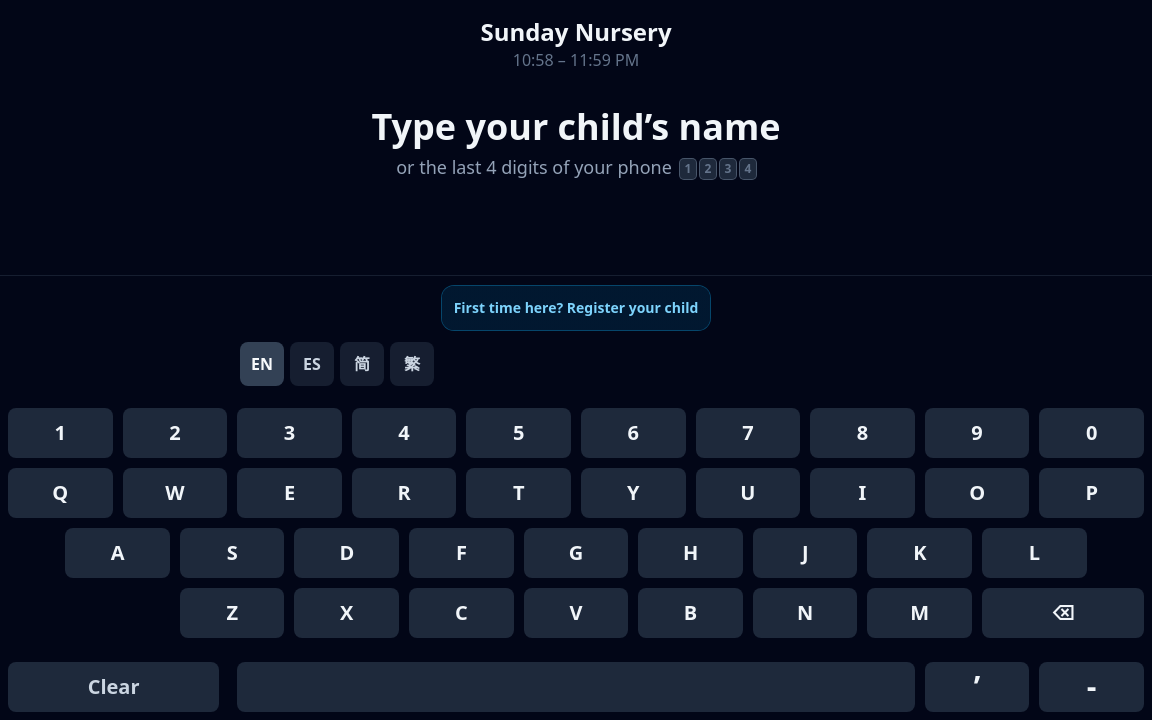
the staff reprint flow › puts a statement where the reprint door goes when nothing would print
Press the mouse on the button "Clear": (114, 687) [8,662,219,712]
Wait 2200 ms
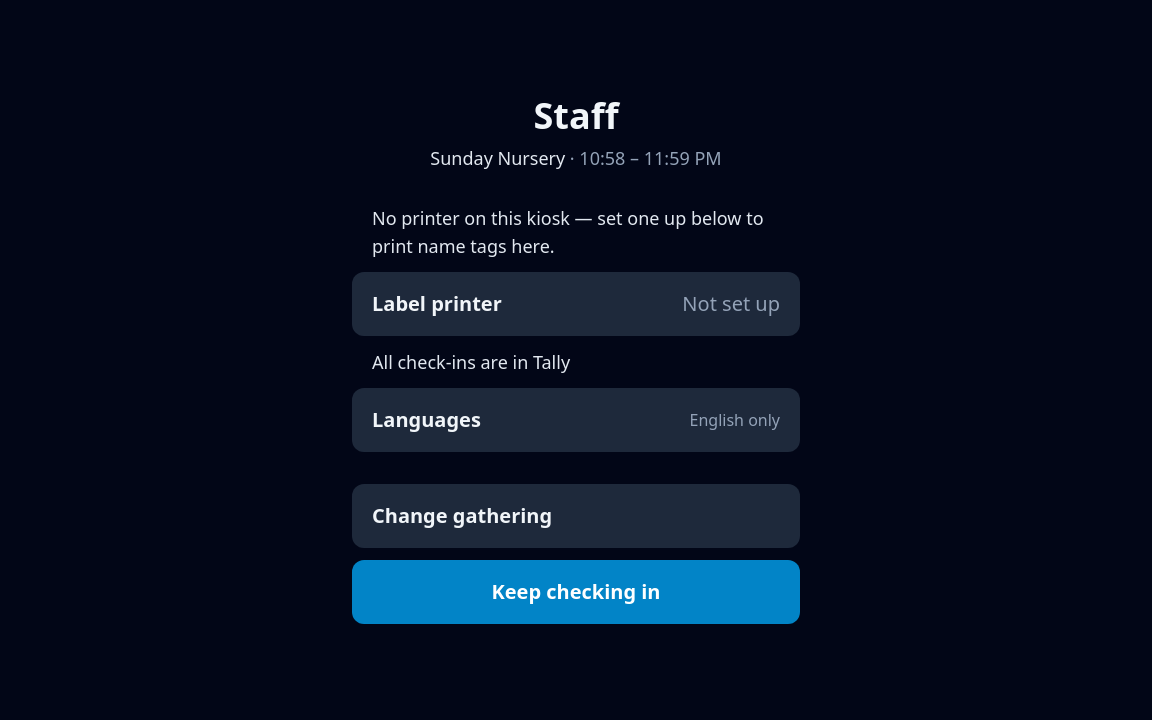
Result: the text "No printer on this kiosk" is shown at [372,206,764,258]
